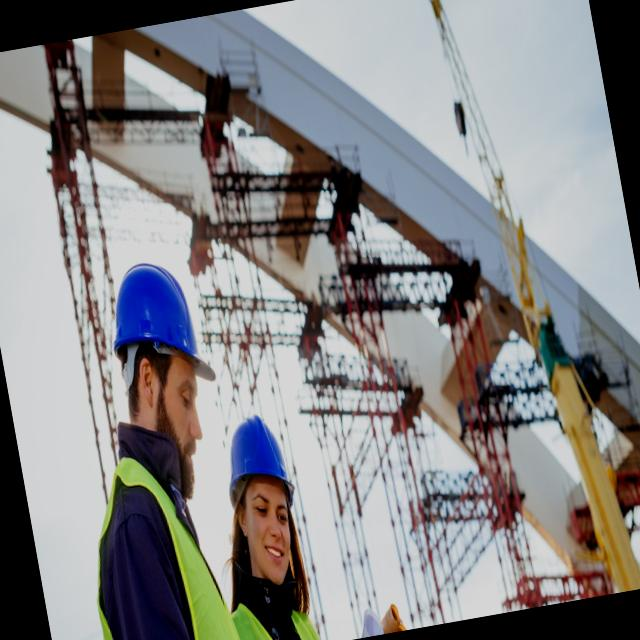helmet: (96, 250, 216, 402), (215, 409, 298, 509)
vest: (68, 431, 249, 640), (234, 582, 321, 640)
